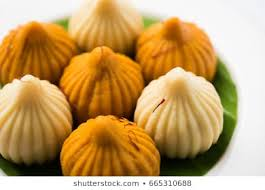modak: (132, 59, 237, 158), (1, 73, 79, 168), (62, 114, 166, 177), (61, 41, 142, 118), (137, 14, 226, 79), (1, 18, 77, 79)
